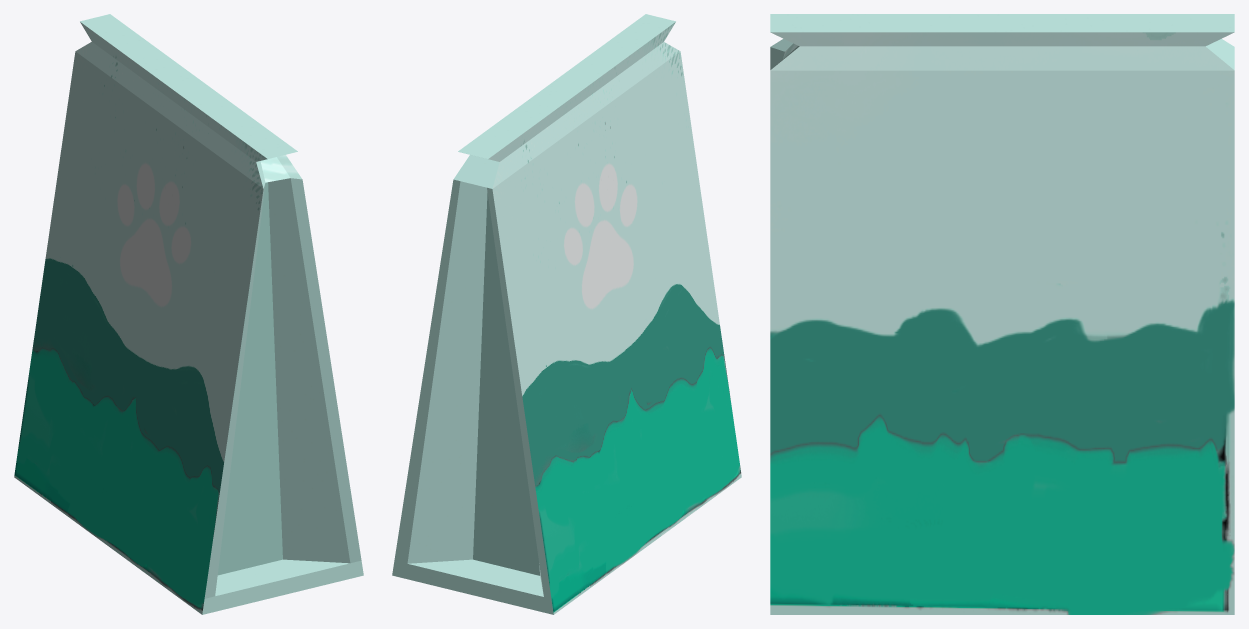
Rendered from catFoodJ.FBX.
The picture shows the model from 3 angles, left to right: view 1: azimuth 30°, elevation 25°; view 2: azimuth 150°, elevation 25°; view 3: azimuth 270°, elevation 25°; orthographic projection. The views are drawn at different scales.
Parts seen in each view (by area): view 1: Cat_food001; view 2: Cat_food001; view 3: Cat_food001.
Boxes of the visible parts, x1=… form: Cat_food001: x1=14, y1=14, x2=363, y2=614; Cat_food001: x1=392, y1=14, x2=741, y2=614; Cat_food001: x1=770, y1=14, x2=1234, y2=614.
Bounding box in the file's own units: 9.88 × 25.68 × 19.92.
1 material, 1 textured.
